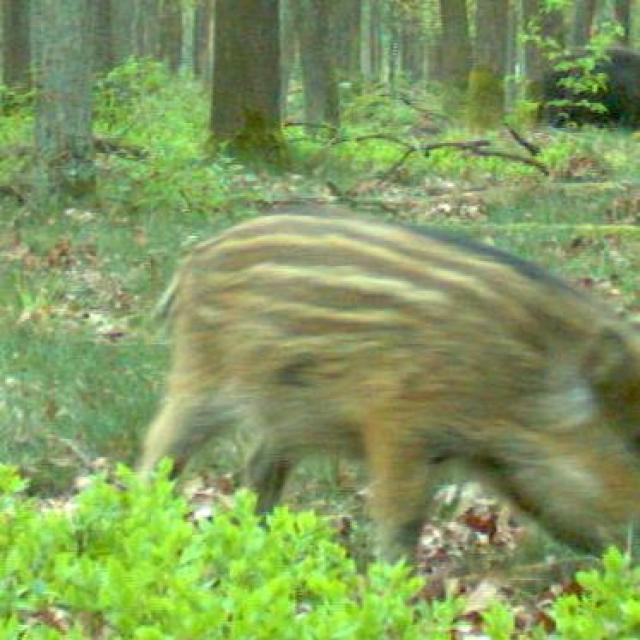pig: (136, 180, 640, 555)
